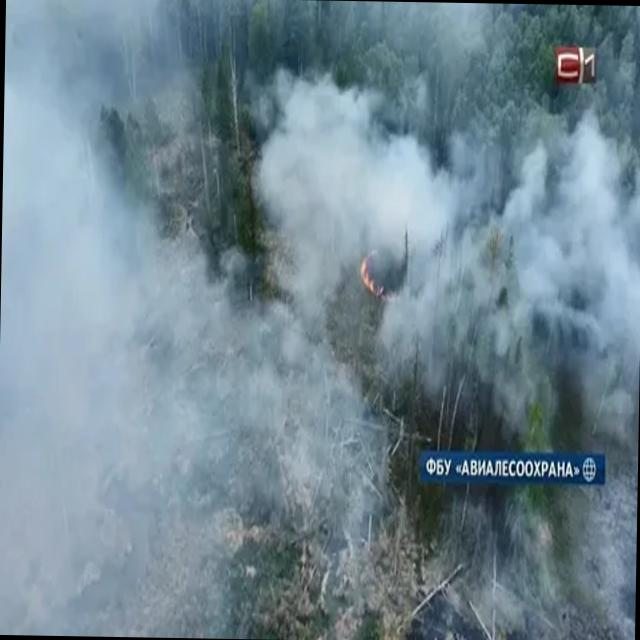Smoke: (250, 79, 486, 314), (495, 137, 640, 399)
